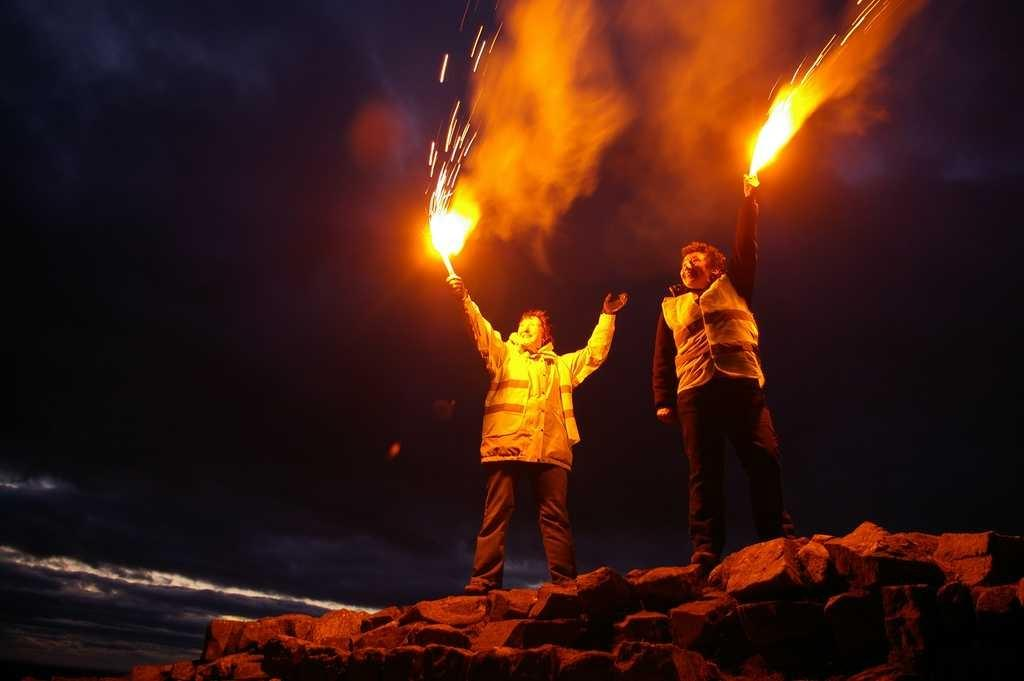fire: (423, 208, 477, 255), (760, 107, 803, 158)
